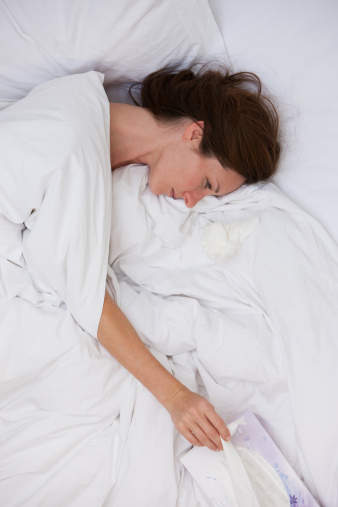deitado: (0, 0, 297, 507)
